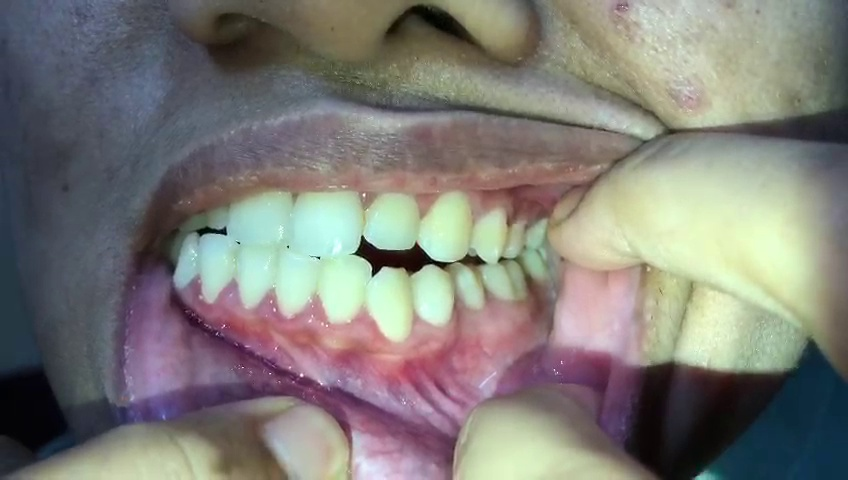1st Molar: (479, 264, 517, 302), (527, 211, 550, 252)
1st Premolar: (410, 265, 456, 326), (472, 203, 506, 263)
2nd Molar: (505, 257, 532, 299)
2nd Premolar: (449, 263, 487, 310), (504, 218, 526, 259)
3rd Molar: (522, 254, 553, 282)
Canine: (418, 190, 473, 262), (367, 265, 414, 340), (174, 233, 198, 293)
Central Incisor: (290, 181, 364, 256), (224, 178, 291, 244), (274, 250, 319, 320), (236, 242, 276, 310)
Lateral Incisor: (317, 254, 368, 324), (363, 190, 419, 251), (199, 235, 237, 308)
